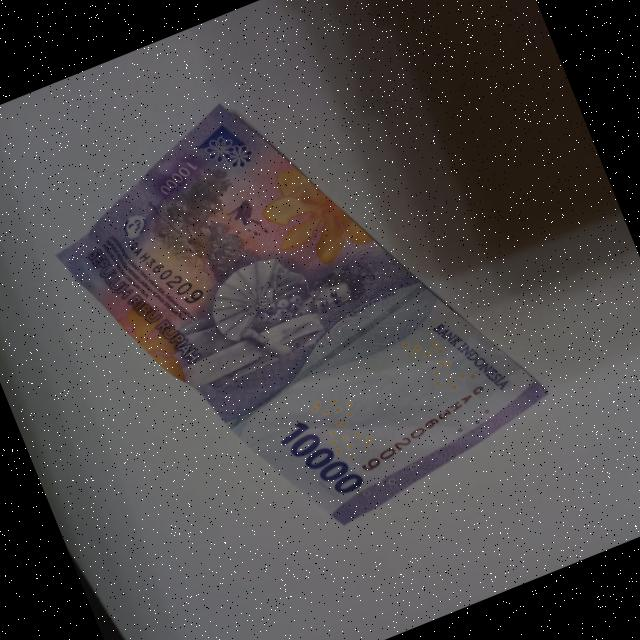10K: (23, 22, 586, 594)
